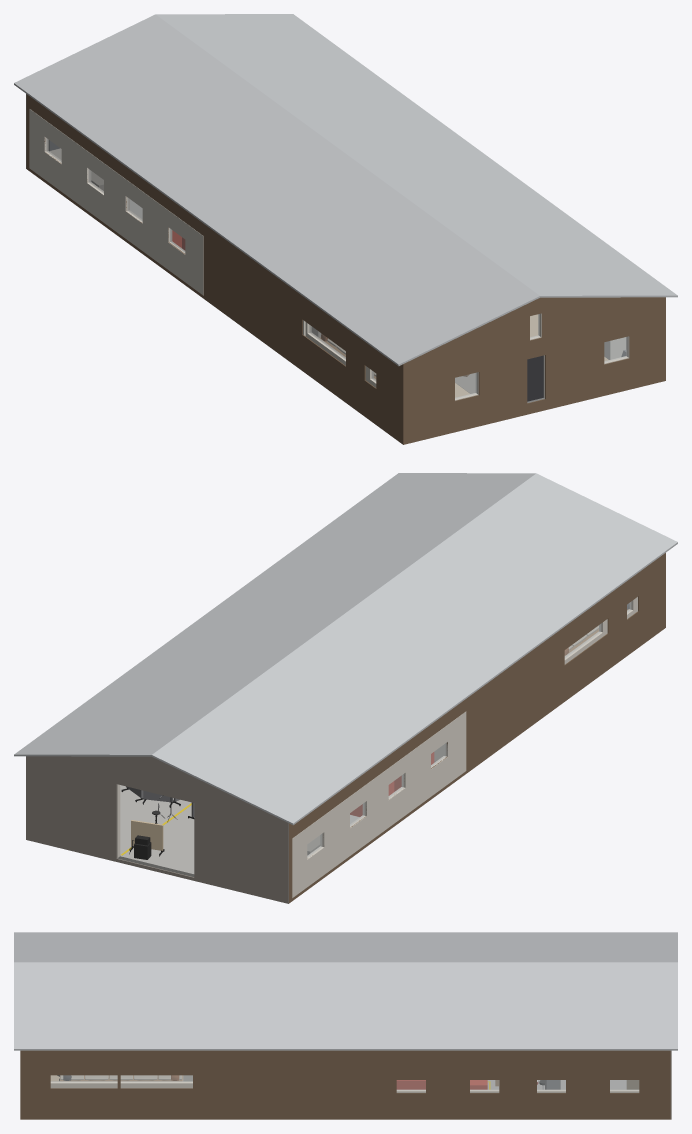
Rendered from studio_v05.glb.
3 views of the same model, one above another, from view 1: azimuth 30°, elevation 25°; view 2: azimuth 150°, elevation 25°; view 3: azimuth 270°, elevation 25° (orthographic). The views are drawn at different scales.
Parts seen in each view (by area): view 1: EX_roof_metal, EX_siding_gable_control, EX_siding_long_L, EX_LV_wall_L, DOOR_DARK_gable_entry_door; view 2: EX_roof_metal, EX_siding_gable_live, EX_siding_long_L, EX_LV_wall_L, EX_LV_slab, V5_GOB-002_2_panel; view 3: EX_roof_metal, EX_siding_long_R, EX_CR_wall_XW, WINDOW_right_window_2, EX_LV_wall_R, WINDOW_right_window_1, EX_LV_slab, WINDOW_live_R0, WINDOW_live_R1, WINDOW_live_R2, WINDOW_live_R3, PR_machinery_placeholder_2.
Boxes of the visible parts, x1,y1,x2,y2 form: EX_roof_metal: [14, 14, 677, 366]; EX_siding_gable_control: [403, 297, 665, 444]; EX_siding_long_L: [26, 94, 402, 444]; EX_LV_wall_L: [29, 109, 203, 295]; DOOR_DARK_gable_entry_door: [527, 355, 543, 401]; EX_roof_metal: [14, 473, 677, 825]; EX_siding_gable_live: [26, 756, 288, 903]; EX_siding_long_L: [289, 553, 665, 903]; EX_LV_wall_L: [292, 711, 466, 897]; EX_LV_slab: [117, 785, 359, 876]; V5_GOB-002_2_panel: [131, 820, 163, 850]; EX_roof_metal: [14, 932, 677, 1050]; EX_siding_long_R: [21, 1050, 670, 1119]; EX_CR_wall_XW: [50, 1081, 192, 1088]; WINDOW_right_window_2: [121, 1075, 192, 1081]; EX_LV_wall_R: [396, 1089, 639, 1092]; WINDOW_right_window_1: [51, 1075, 117, 1081]; EX_LV_slab: [487, 1080, 626, 1089]; WINDOW_live_R0: [397, 1080, 425, 1090]; WINDOW_live_R1: [470, 1080, 498, 1090]; WINDOW_live_R2: [537, 1080, 565, 1090]; WINDOW_live_R3: [610, 1080, 638, 1090]; PR_machinery_placeholder_2: [396, 1080, 425, 1089].
Size of what is drawn, in the model's own units: 13.3 by 5.48 by 31.73.
